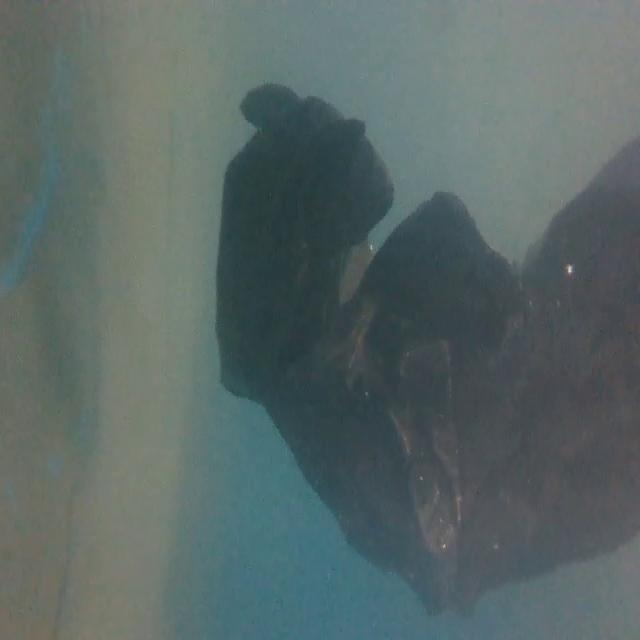plastic bags: (214, 81, 640, 611)
